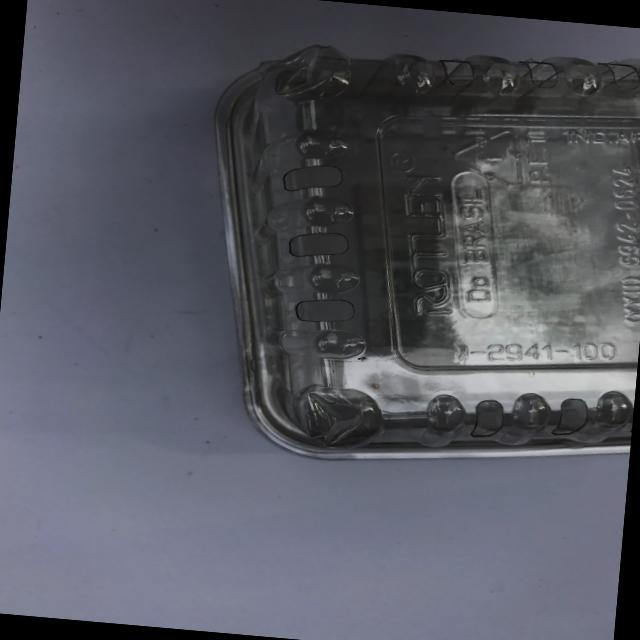Plastic: (166, 8, 640, 496)
